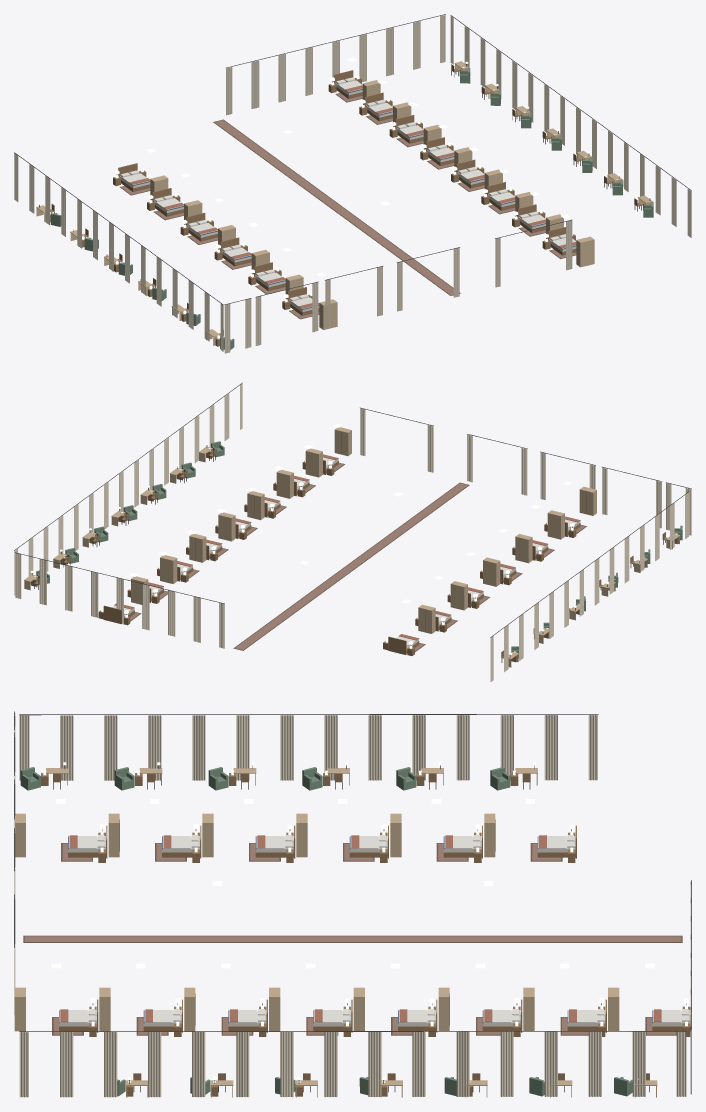
File: fine-s1.glb
3 renders of one model, top to bottom at view 1: azimuth 30°, elevation 25°; view 2: azimuth 150°, elevation 25°; view 3: azimuth 270°, elevation 25°, orthographic. The views are drawn at different scales.
Visible parts, largest first — view 1: soft-s1, dresser.013; view 2: soft-s1, dresser.005, dresser.010, dresser.002, dresser.001, dresser.003, dresser.007, dresser.000, dresser.012, dresser.013, dresser.004, dresser.008 (+2 smaller); view 3: soft-s1.
Part boxes in pixels (x1=…): soft-s1: x1=14, y1=14, x2=691, y2=353; dresser.013: x1=576, y1=236, x2=594, y2=267; soft-s1: x1=14, y1=382, x2=691, y2=681; dresser.005: x1=579, y1=486, x2=596, y2=515; dresser.010: x1=247, y1=491, x2=264, y2=520; dresser.002: x1=483, y1=557, x2=500, y2=586; dresser.001: x1=450, y1=581, x2=467, y2=610; dresser.003: x1=515, y1=534, x2=532, y2=563; dresser.007: x1=160, y1=555, x2=177, y2=583; dresser.000: x1=418, y1=604, x2=435, y2=633; dresser.012: x1=305, y1=448, x2=322, y2=477; dresser.013: x1=334, y1=427, x2=351, y2=455; dresser.004: x1=547, y1=510, x2=564, y2=539; dresser.008: x1=189, y1=534, x2=206, y2=562; soft-s1: x1=14, y1=711, x2=691, y2=1097.
Size of the model in its own units: 40.04 by 4.07 by 36.1.
